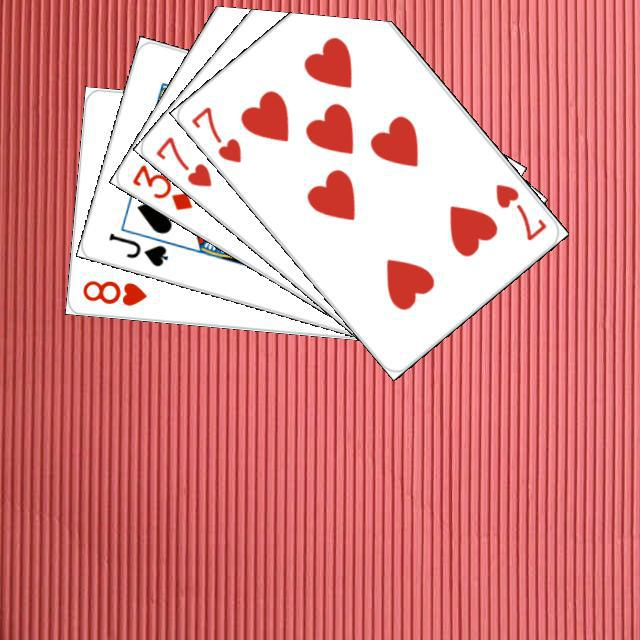3d: (127, 159, 195, 212)
7h: (490, 178, 549, 243), (185, 101, 244, 165), (150, 131, 214, 189)
8h: (77, 275, 148, 308)
Js: (103, 228, 170, 269)
